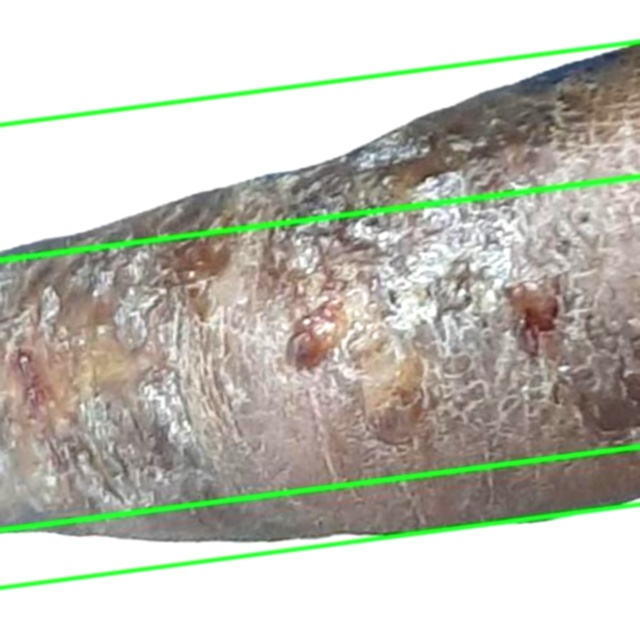Eczema: (0, 41, 639, 587), (0, 0, 639, 261), (0, 446, 639, 639)
